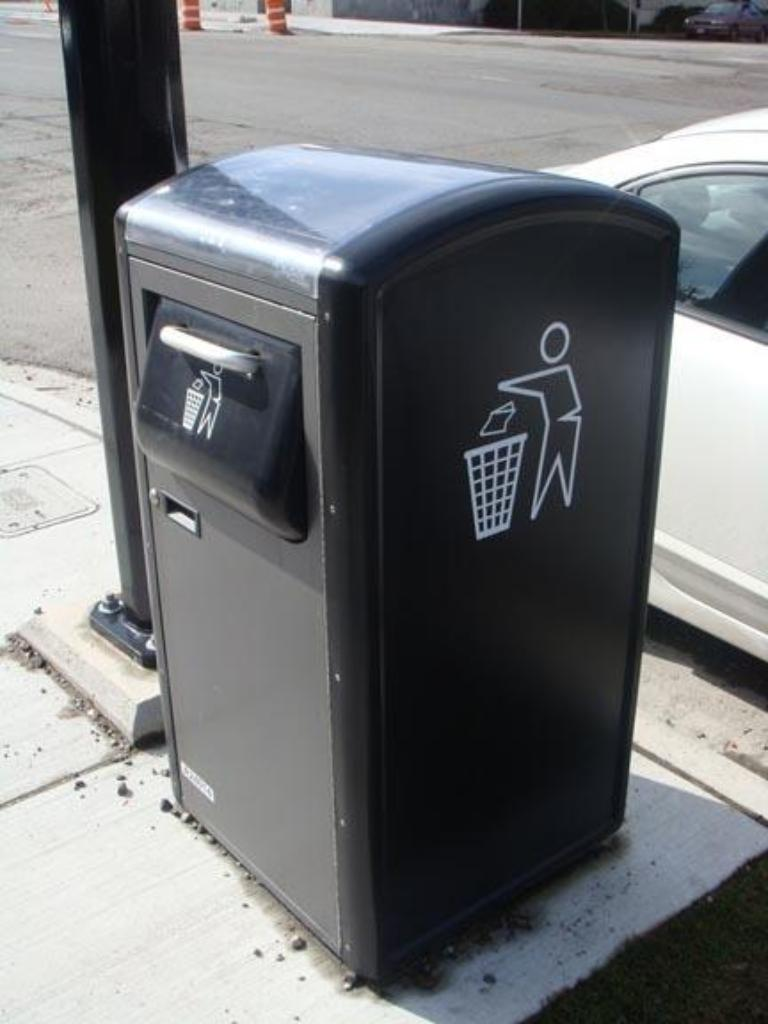dustbin: (106, 125, 695, 962)
